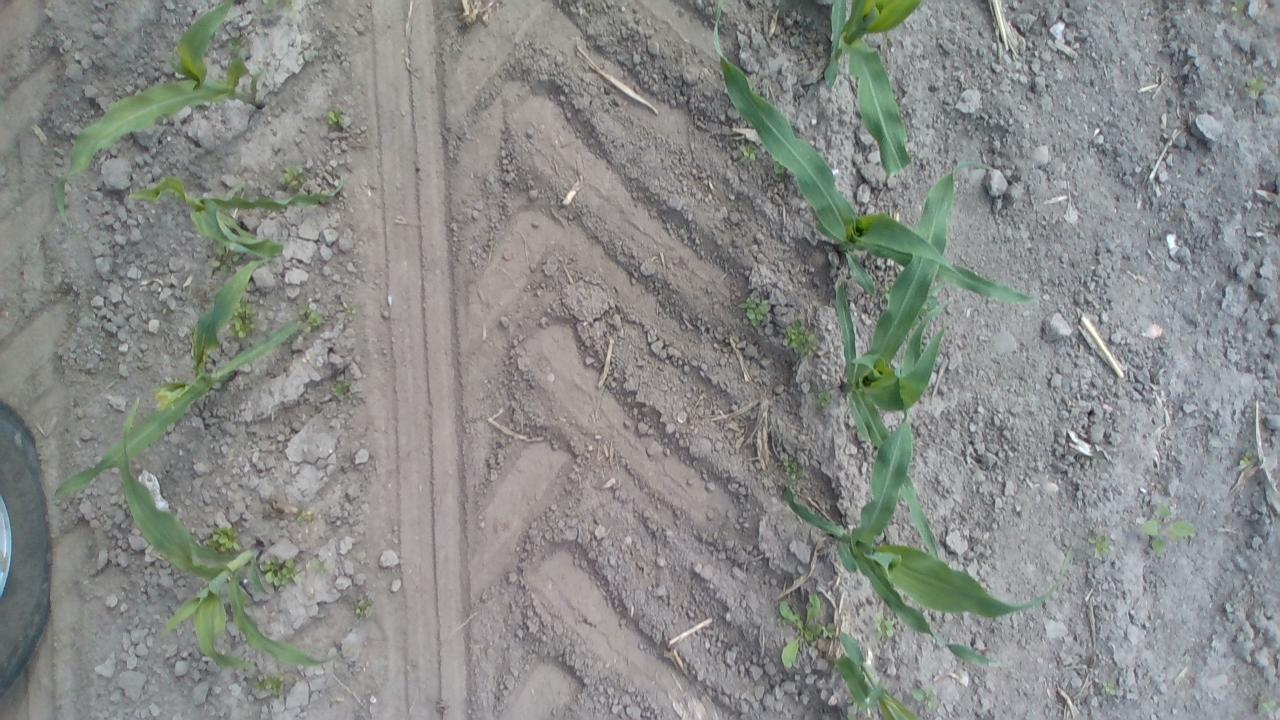Maize: (784, 296, 1066, 672), (709, 0, 1044, 311), (830, 156, 1012, 568), (118, 394, 339, 671), (50, 254, 300, 495), (49, 0, 267, 226), (124, 175, 348, 260), (823, 0, 921, 177), (834, 632, 928, 720)
Weeds: (775, 592, 823, 668), (1139, 503, 1194, 556), (909, 283, 942, 328), (260, 553, 304, 586), (209, 238, 244, 276), (784, 318, 816, 359), (227, 294, 256, 339), (204, 524, 244, 554), (738, 296, 772, 328), (773, 456, 804, 482), (296, 306, 324, 334), (278, 165, 307, 190), (254, 673, 284, 694), (873, 612, 895, 639), (1086, 534, 1110, 558), (262, 0, 298, 16), (912, 687, 938, 709), (1246, 76, 1269, 98), (330, 379, 352, 401), (1229, 0, 1250, 22), (738, 142, 758, 162), (846, 696, 869, 712), (327, 106, 344, 125), (1257, 696, 1277, 712), (813, 392, 832, 408), (1100, 680, 1118, 696), (354, 599, 372, 615), (312, 558, 328, 575), (1238, 450, 1254, 466), (227, 35, 240, 54), (821, 622, 836, 638), (774, 160, 788, 176), (882, 282, 892, 300), (346, 305, 360, 315), (162, 305, 170, 315), (846, 714, 857, 720)
